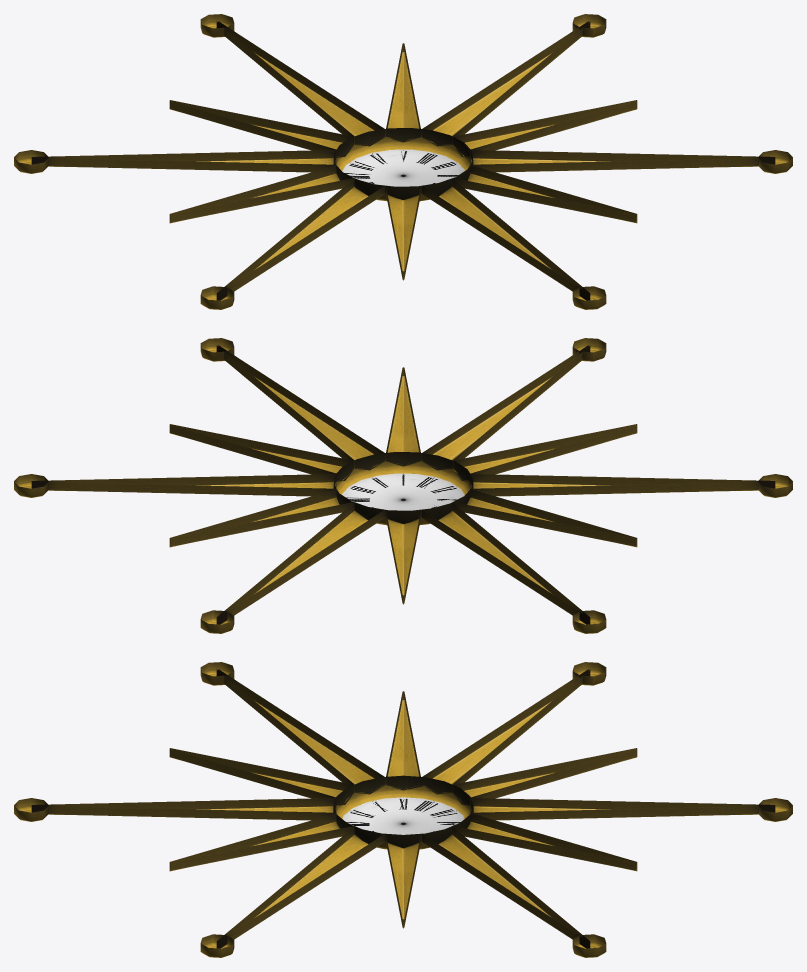
The model's file is nt_2020_wall_clock_02_LOD0.obj.
3 views of the same model, one above another, from view 1: azimuth 30°, elevation 25°; view 2: azimuth 150°, elevation 25°; view 3: azimuth 270°, elevation 25° (orthographic).
Parts seen in each view (by area): view 1: mtl_nt_2020_wall_clock_01; view 2: mtl_nt_2020_wall_clock_01; view 3: mtl_nt_2020_wall_clock_01.
Boxes of the visible parts, x1,y1,x2,y2 form: mtl_nt_2020_wall_clock_01: (14,14,792,309); mtl_nt_2020_wall_clock_01: (14,338,792,633); mtl_nt_2020_wall_clock_01: (14,662,792,957).
Size of the model in its own units: 98.36 by 4.25 by 113.
